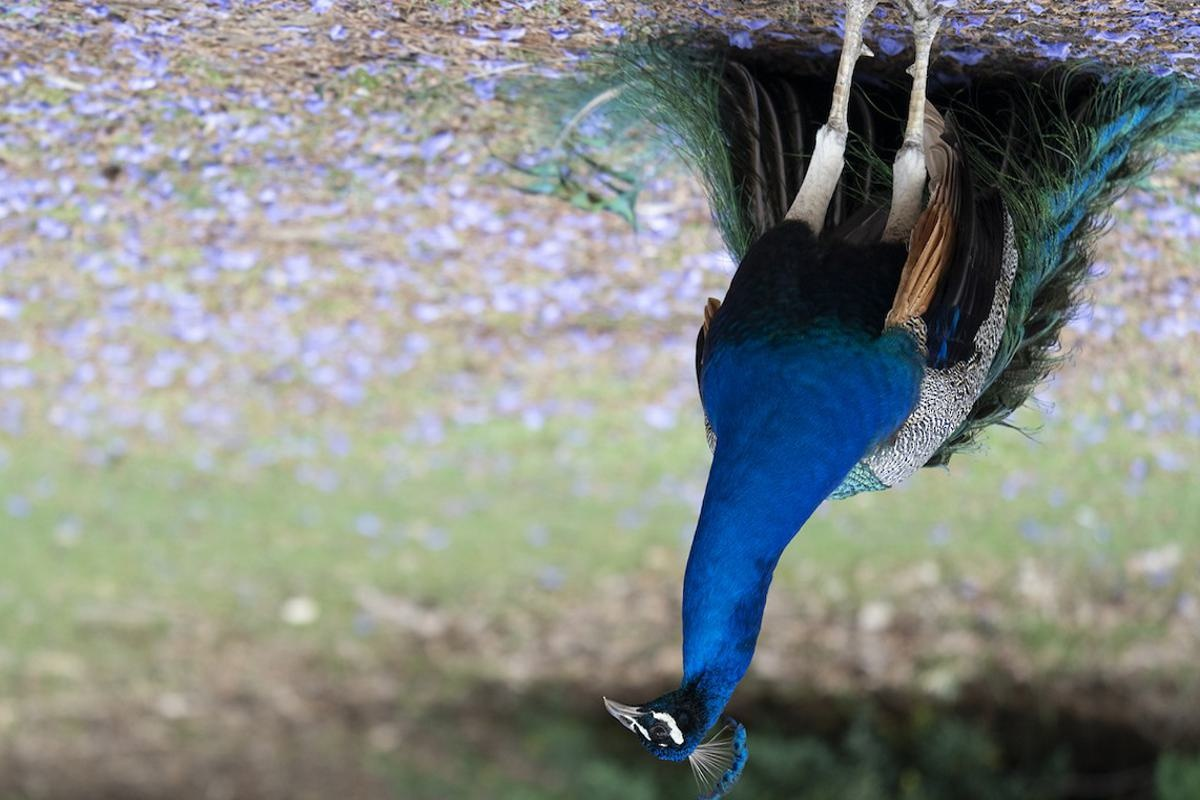peacock: (590, 1, 1200, 784)
